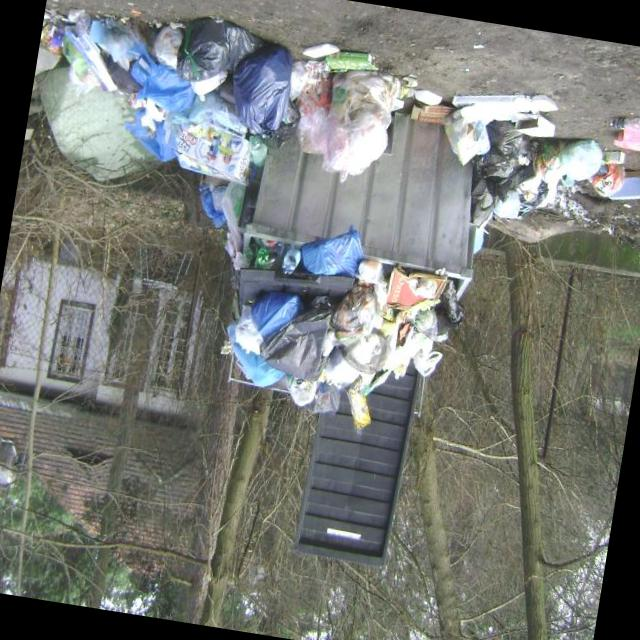high trash: (41, 11, 640, 269), (224, 230, 464, 429)
